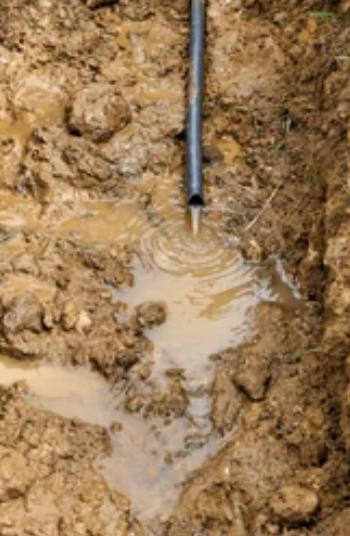water accumulation: (0, 174, 309, 522)
